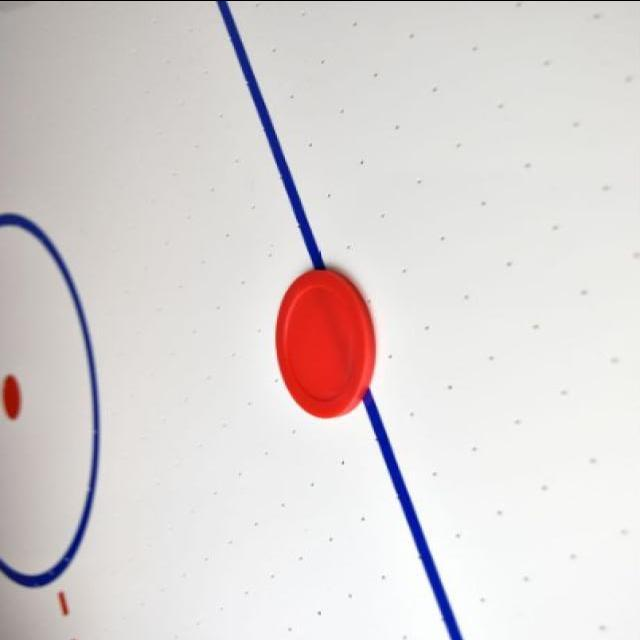chip: (270, 264, 376, 416)
